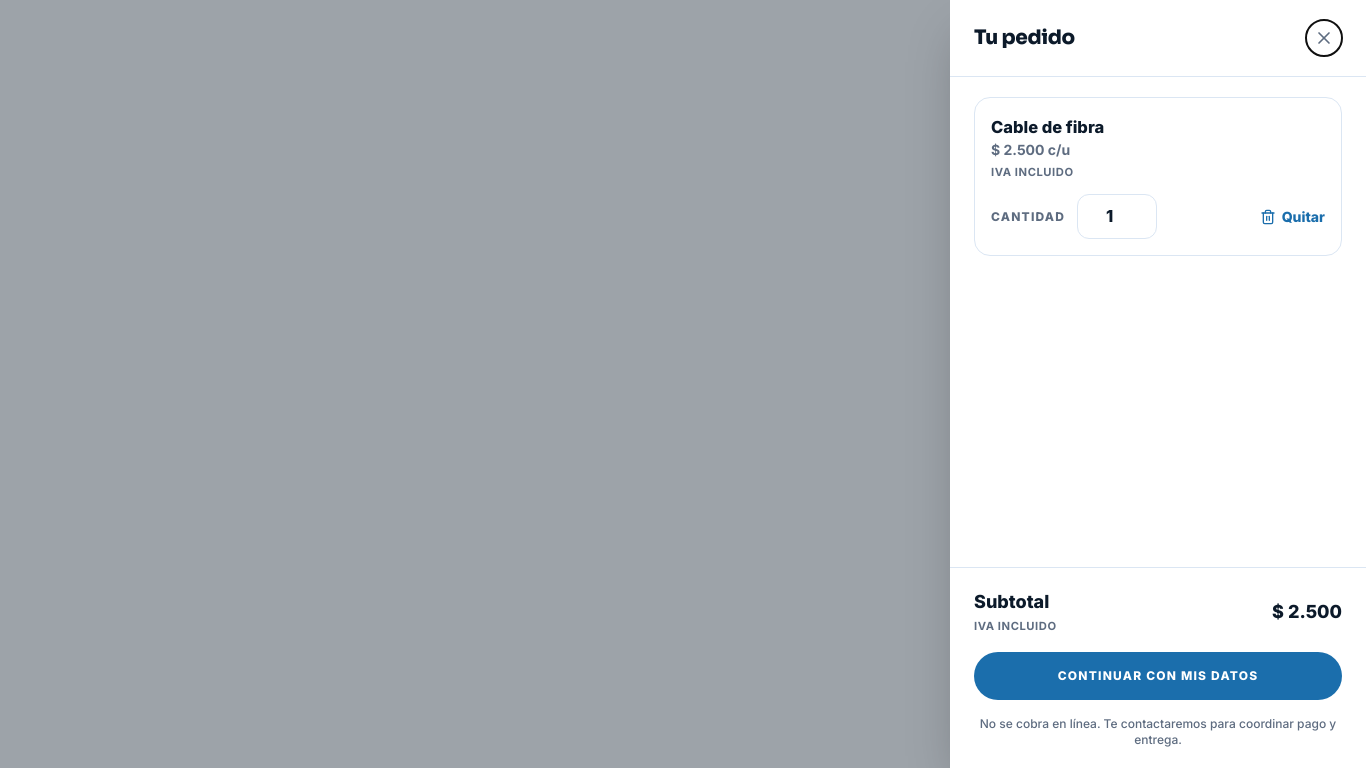
it: CartDrawer order flow › hides the WhatsApp path when no number is configured
Click the button "Continuar con mis datos" at (1158,676), box [974,652,1342,700]
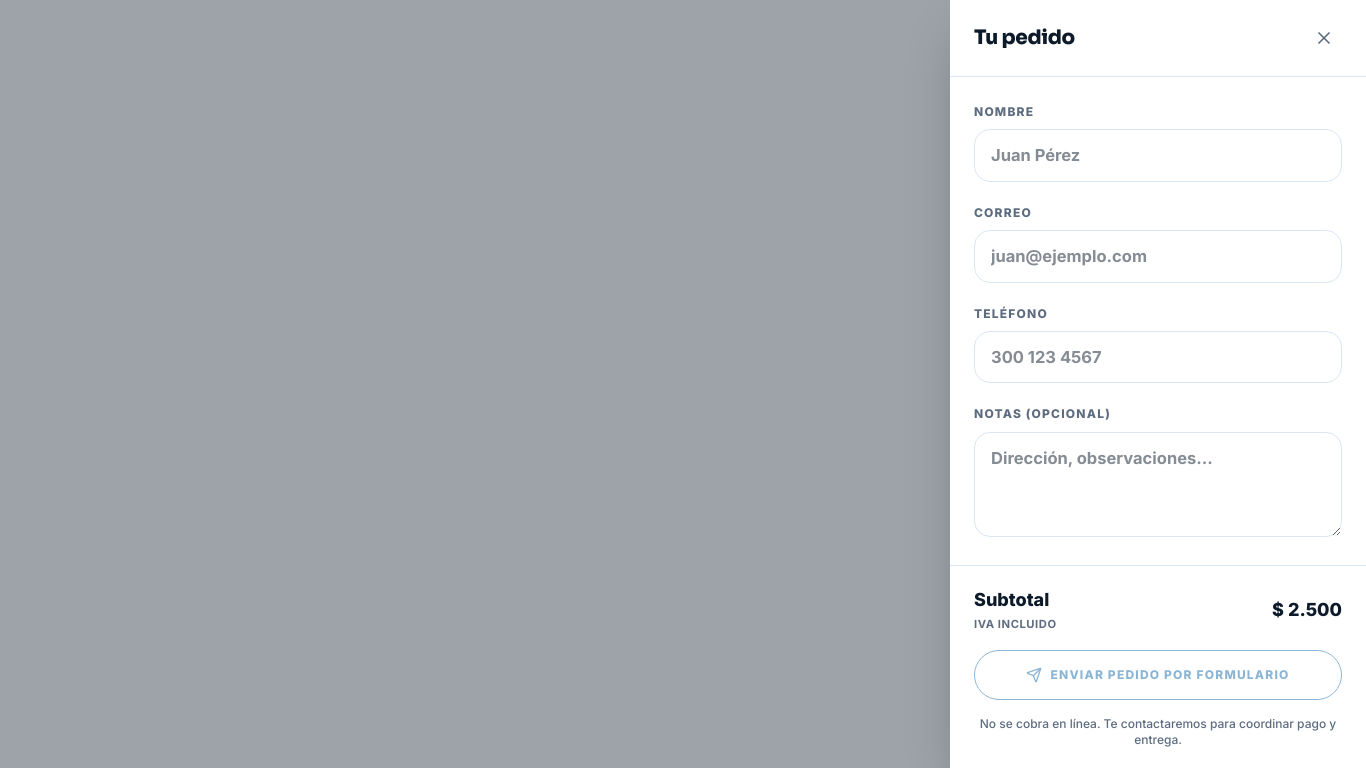
Result: the button "Enviar pedido por formulario" is shown at [974,650,1342,700]
